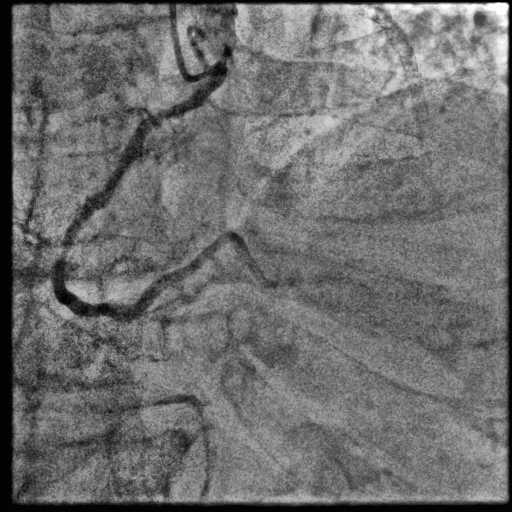pborca: (135, 230, 294, 314)
pda: (134, 304, 250, 324)
rca: (51, 62, 226, 319)
